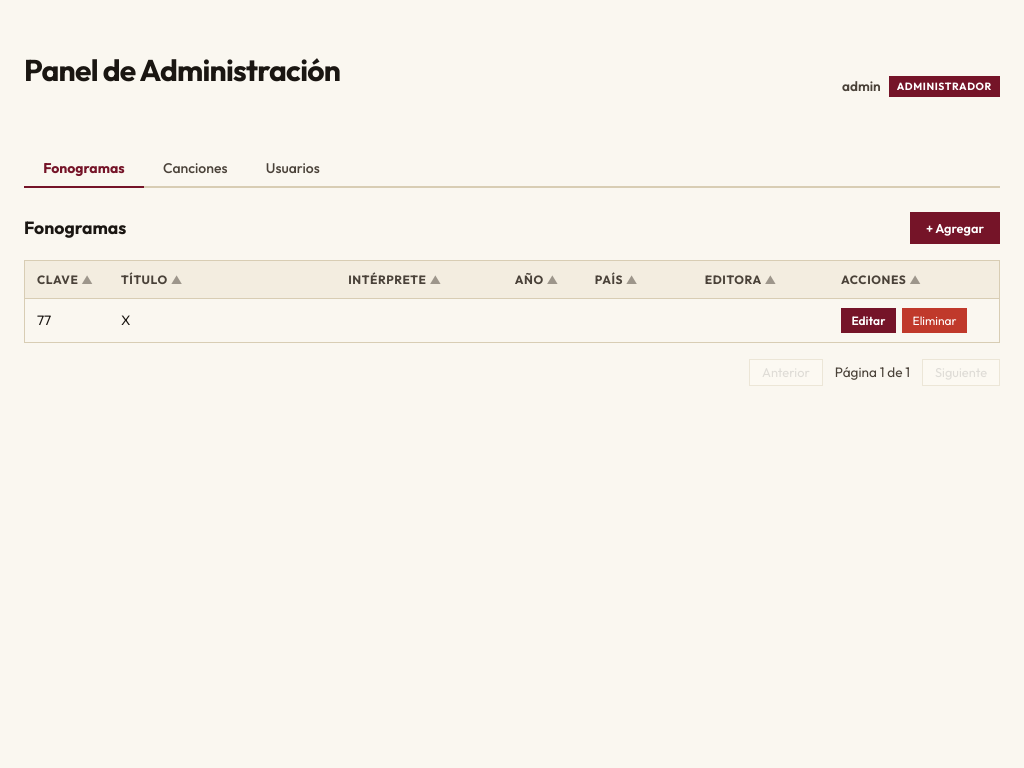
confirmDeleteSong opens confirm modal with song-specific text
The width and height of the screenshot is (1024, 768).
Click the button "Canciones" at (195, 169), box [144, 149, 247, 188]
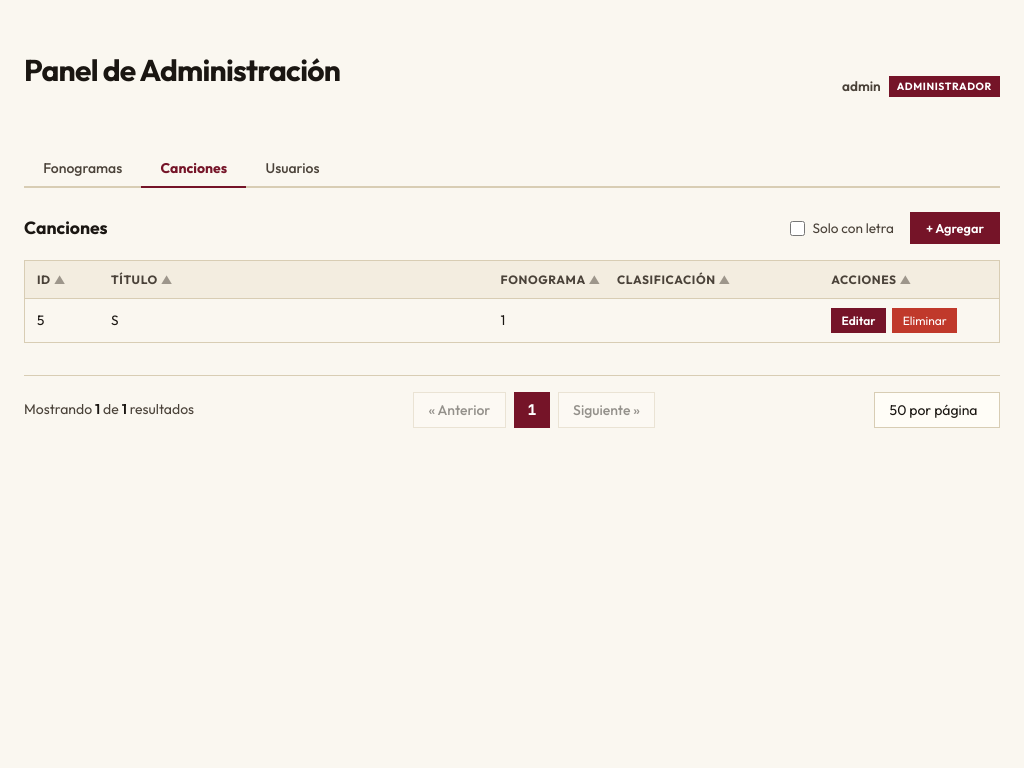
Click the button with class "btn-danger" at (925, 320), box [892, 308, 957, 333]
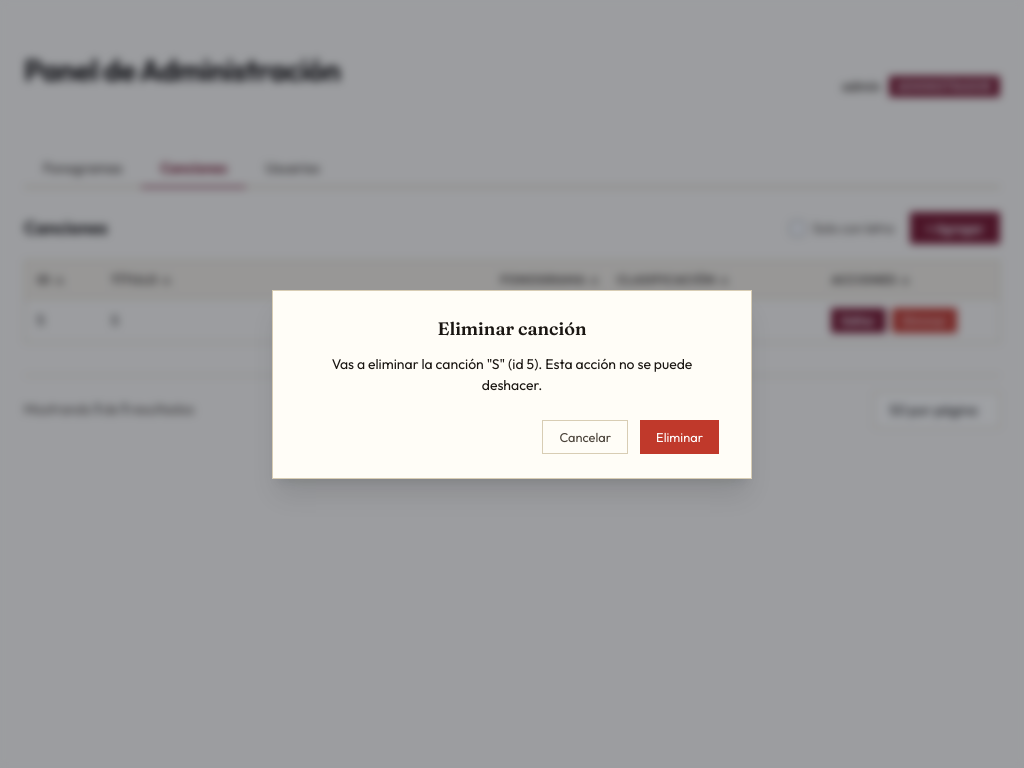
Expected: the dialog with class "admin-confirm" shows "id 5", [332, 354, 692, 394]
Expected: the dialog with class "admin-confirm" shows "\"S\"", [332, 354, 692, 394]
Expected: the heading with class "admin-confirm-title" reads "Eliminar canción", [438, 316, 586, 340]
